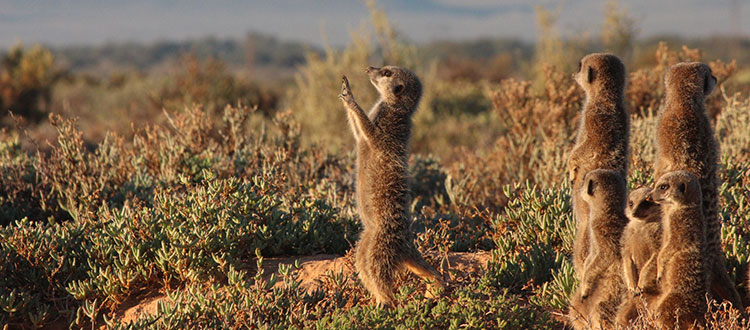meerkat: (321, 50, 456, 302)
